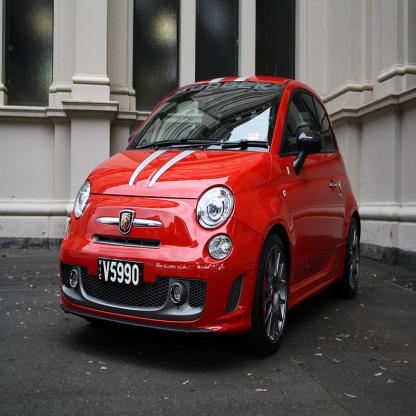Car: (59, 64, 361, 357)
